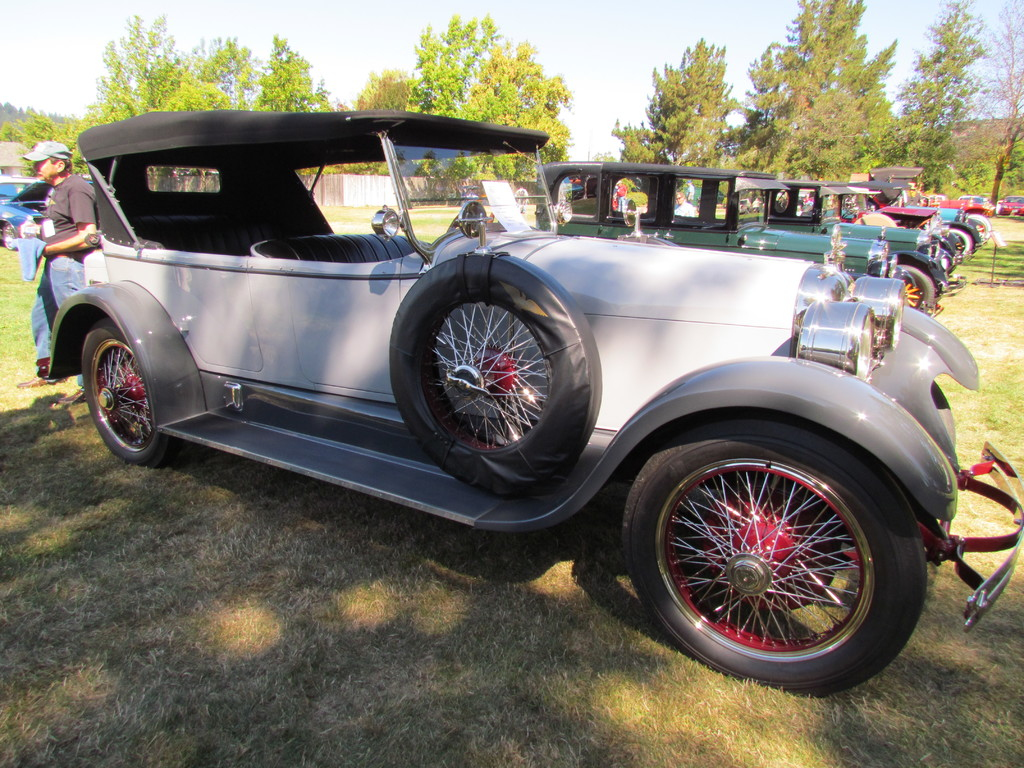Car: (42, 112, 1023, 695), (0, 177, 97, 248)
